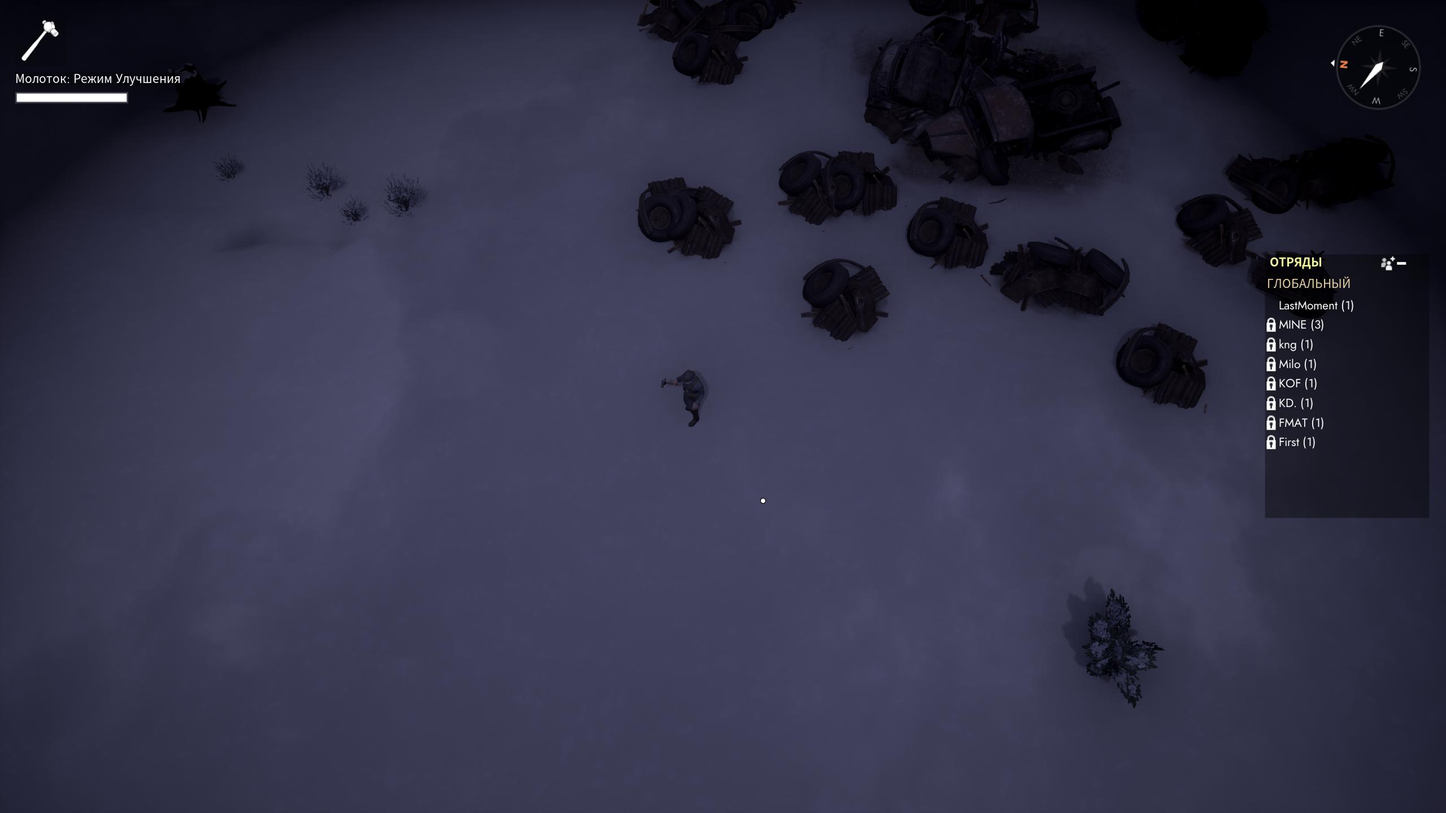player: (663, 370, 706, 426)
scrap_pile: (991, 241, 1129, 314), (780, 151, 896, 224), (639, 177, 741, 259), (1117, 324, 1205, 408), (803, 260, 888, 340), (1177, 195, 1262, 266), (907, 198, 987, 267), (672, 26, 746, 84), (691, 2, 741, 25)
terrain: (866, 16, 1121, 185)
